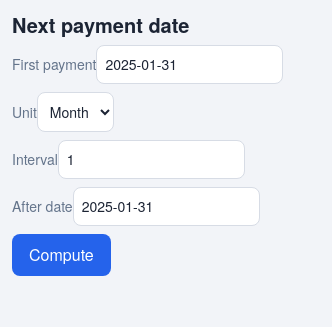
it: NextDueCard › signale une erreur (ex. 422)
Click the button with test id "nextdue-compute" at (61, 255), box [12,234,111,276]
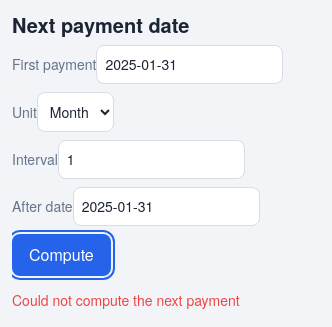
expect the message with test id "nextdue-error" reads "Could not compute the next payment": met, box [12,290,240,310]
